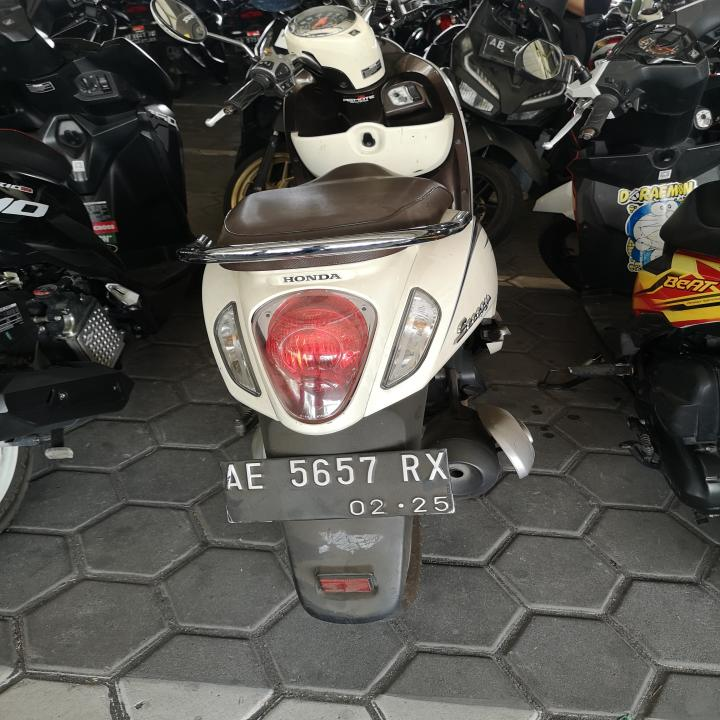plate: (209, 446, 460, 528)
